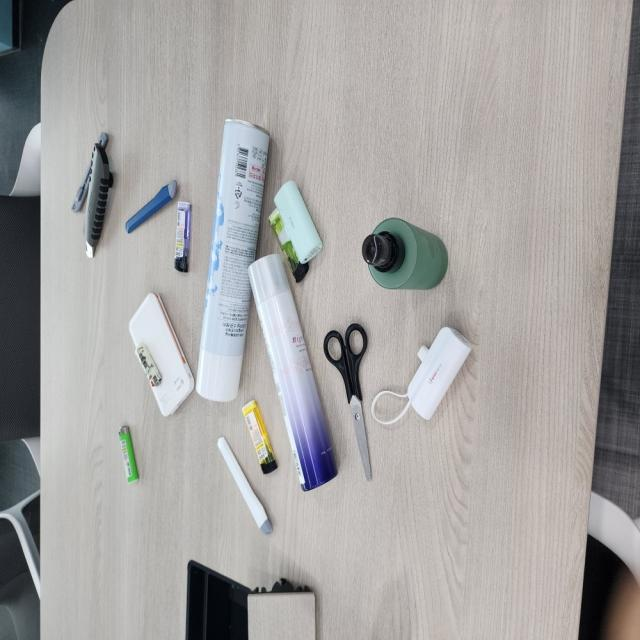cutter: (215, 436, 275, 542), (80, 148, 116, 260), (125, 179, 181, 237), (72, 131, 110, 214)
lighter: (270, 212, 312, 286), (242, 400, 278, 478), (133, 340, 165, 386), (174, 202, 194, 275), (117, 425, 141, 484)
portable_charger: (129, 293, 195, 421), (406, 324, 474, 423), (277, 180, 325, 267)
scissors: (325, 318, 374, 490)
spray: (193, 118, 276, 402), (248, 252, 342, 494), (362, 215, 450, 295)
